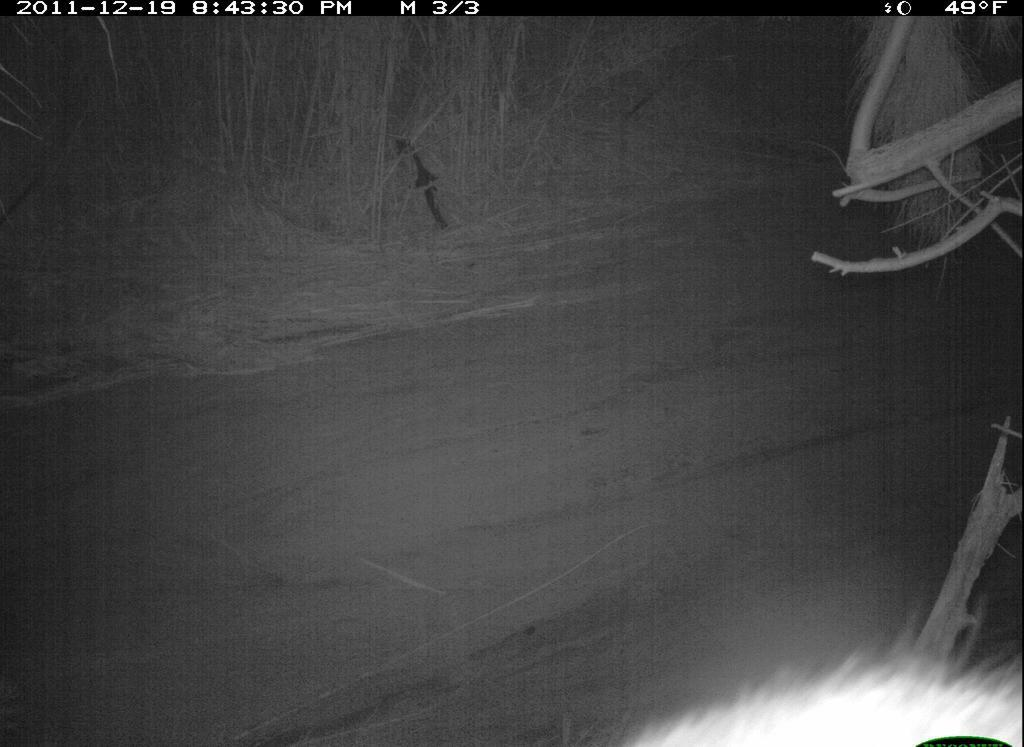raccoon: (552, 642, 1023, 747)
